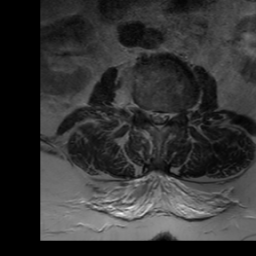CCS_normal: (155, 102, 162, 135)
LFS_stenosis: (171, 101, 180, 125)
LLS_normal: (162, 102, 171, 130)
RFS_stenosis: (139, 99, 146, 120)
RLS_normal: (146, 101, 155, 129)
